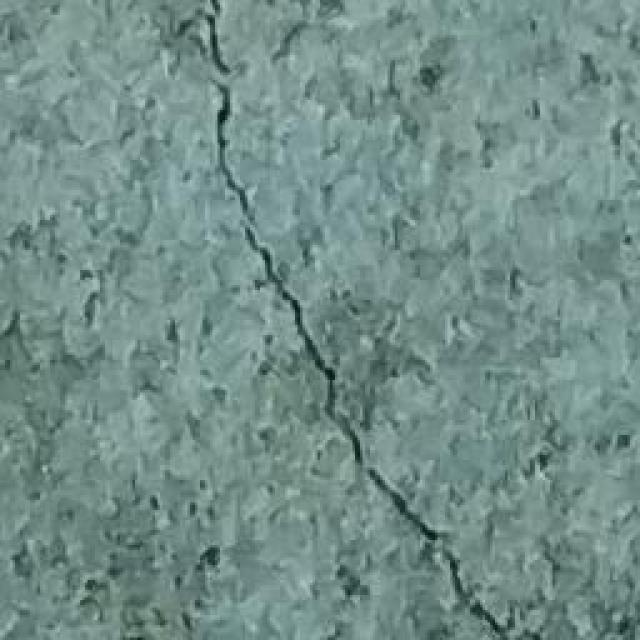Diagonal: (184, 0, 532, 640)
